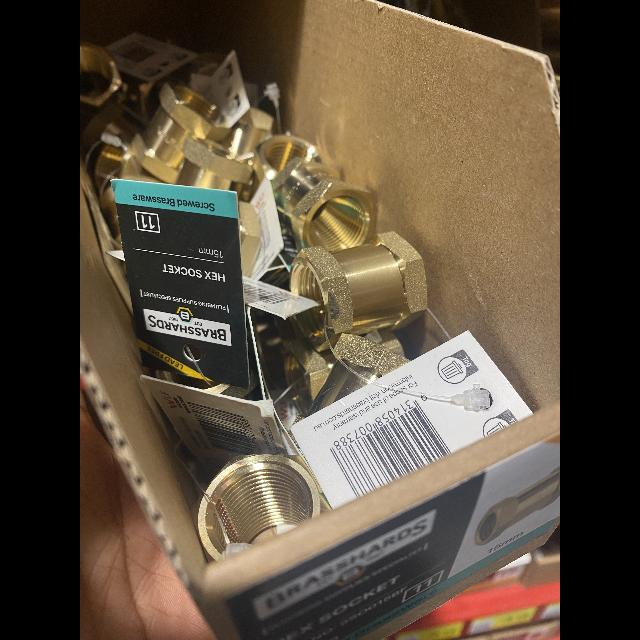Brass: (289, 232, 428, 348), (271, 158, 378, 254), (132, 82, 232, 184), (206, 453, 319, 543), (292, 361, 367, 425), (252, 134, 320, 192), (176, 138, 251, 190), (334, 331, 408, 379), (285, 336, 332, 411), (80, 41, 123, 111), (221, 107, 274, 156), (193, 496, 225, 558), (100, 188, 121, 238), (93, 146, 120, 179), (377, 328, 404, 359)
